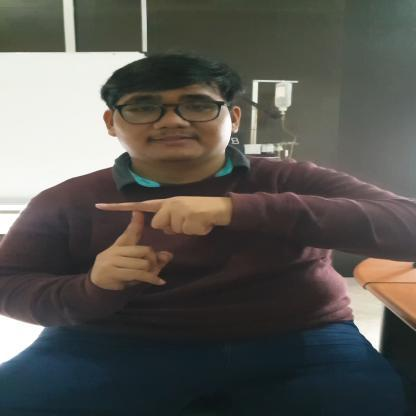T: (88, 194, 228, 291)
